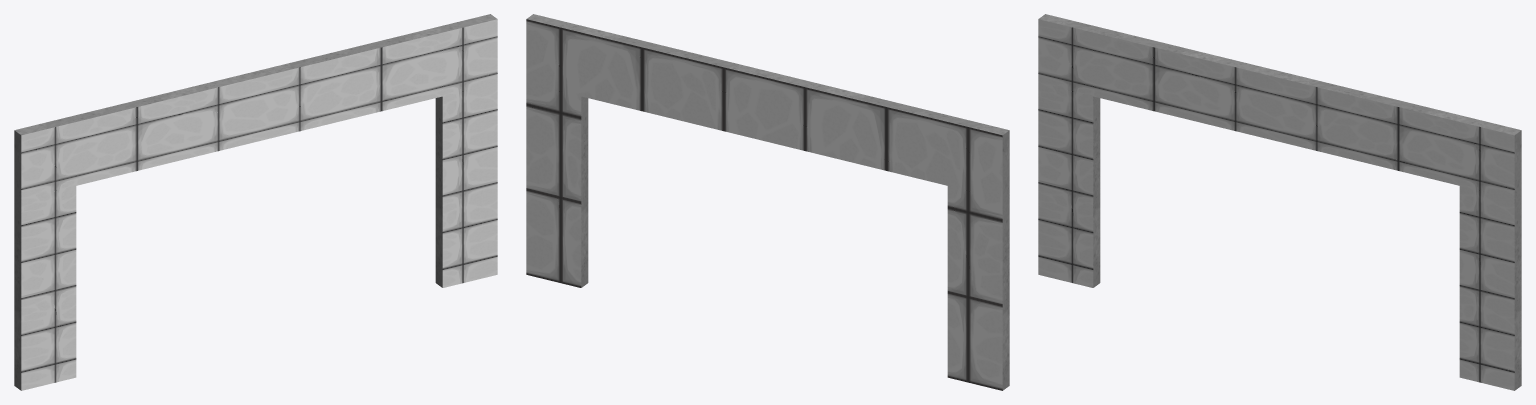
Rendered from SM_Inner_Wall_Gate.fbx.
3 views of the same model, side by side, from view 1: azimuth 30°, elevation 25°; view 2: azimuth 150°, elevation 25°; view 3: azimuth 330°, elevation 25° (orthographic).
Visible parts, largest first — view 1: SM_Inner_Wall_Gate; view 2: SM_Inner_Wall_Gate; view 3: SM_Inner_Wall_Gate.
Boxes of the visible parts, <box> form: SM_Inner_Wall_Gate: <box>14,14,497,390</box>; SM_Inner_Wall_Gate: <box>526,14,1009,390</box>; SM_Inner_Wall_Gate: <box>1038,14,1521,390</box>.
Bounding box in the file's own units: 780 × 400 × 20.
